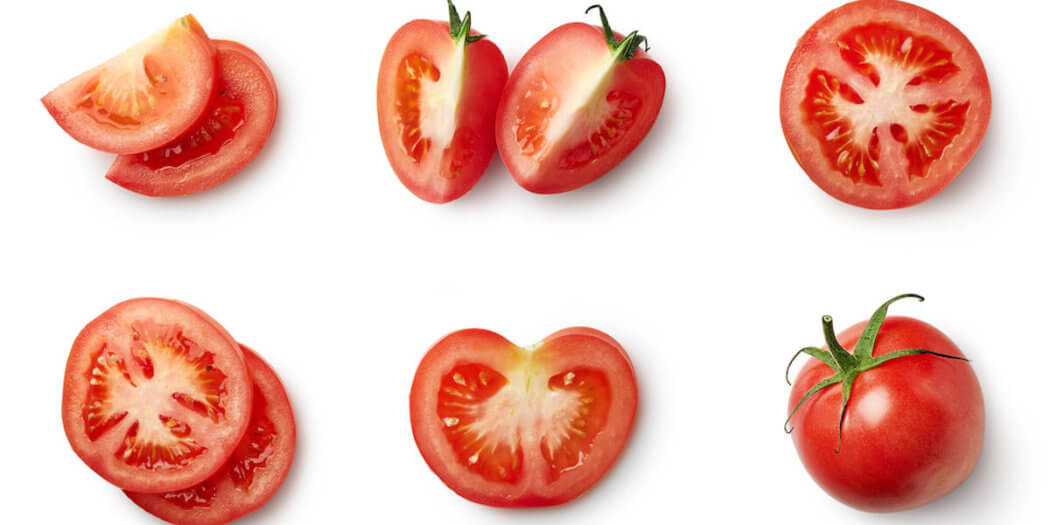tomato: (374, 16, 670, 208), (61, 297, 299, 523), (777, 2, 994, 214), (43, 10, 281, 202), (409, 324, 643, 511), (784, 317, 988, 516)
